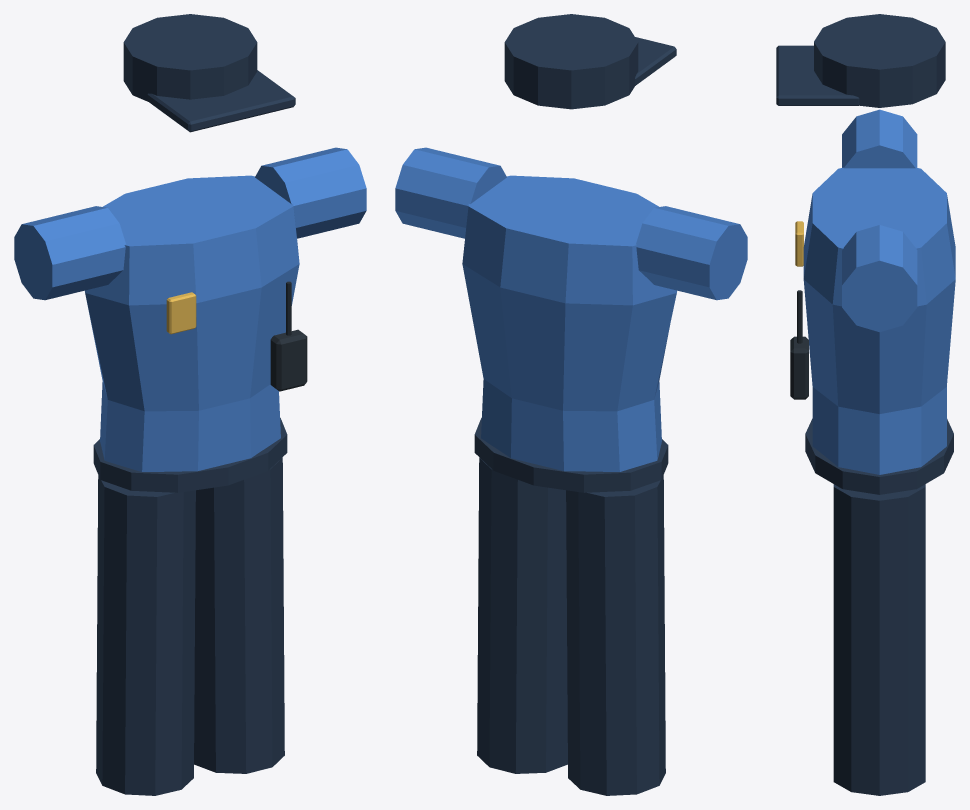
File: Modular_Police_Uniform.fbx
The picture shows the model from 3 angles, left to right: view 1: azimuth 30°, elevation 25°; view 2: azimuth 150°, elevation 25°; view 3: azimuth 270°, elevation 25°; orthographic projection.
Visible parts, largest first — view 1: Shirt.018, PantsLeg.030, PantsLeg.031, CapCrown.007, Sleeve.036, Sleeve.037, Belt.017, CapVisor.007, Radio.004, Badge.004; view 2: Shirt.018, PantsLeg.030, PantsLeg.031, CapCrown.007, Sleeve.036, Sleeve.037, Belt.017, CapVisor.007; view 3: Shirt.018, PantsLeg.031, CapCrown.007, Sleeve.037, Sleeve.036, Belt.017, CapVisor.007, Radio.004, Badge.004.
Part boxes in pixels (box(x1,y1,x2,y2)): Shirt.018: box(85, 175, 299, 471); PantsLeg.030: box(96, 475, 195, 795); PantsLeg.031: box(194, 457, 284, 773); CapCrown.007: box(123, 14, 257, 101); Sleeve.036: box(14, 206, 125, 300); Sleeve.037: box(255, 147, 366, 238); Belt.017: box(93, 417, 287, 492); CapVisor.007: box(147, 70, 295, 132); Radio.004: box(270, 329, 307, 391); Badge.004: box(166, 292, 196, 334); Shirt.018: box(462, 175, 676, 471); PantsLeg.030: box(566, 475, 665, 795); PantsLeg.031: box(477, 457, 567, 773); CapCrown.007: box(504, 14, 638, 109); Sleeve.036: box(636, 206, 747, 300); Sleeve.037: box(395, 147, 506, 238); Belt.017: box(474, 417, 668, 492); CapVisor.007: box(635, 37, 676, 85); Shirt.018: box(803, 167, 955, 474); PantsLeg.031: box(833, 484, 925, 795); CapCrown.007: box(814, 14, 945, 107); Sleeve.037: box(842, 225, 917, 332); Sleeve.036: box(842, 109, 917, 168); Belt.017: box(805, 418, 953, 494); CapVisor.007: box(776, 45, 859, 105); Radio.004: box(790, 336, 808, 399); Badge.004: box(795, 221, 803, 266).
Size of the model in its own units: 0.76 by 1.67 by 0.3817.
